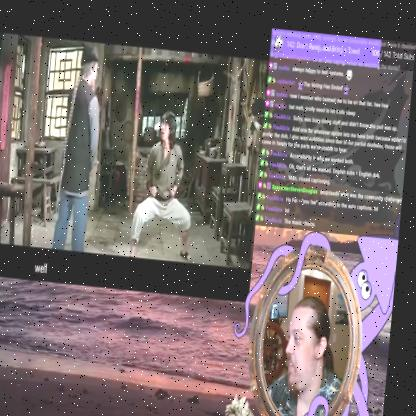donation: (0, 0, 272, 296)
streamer: (270, 283, 355, 416)
